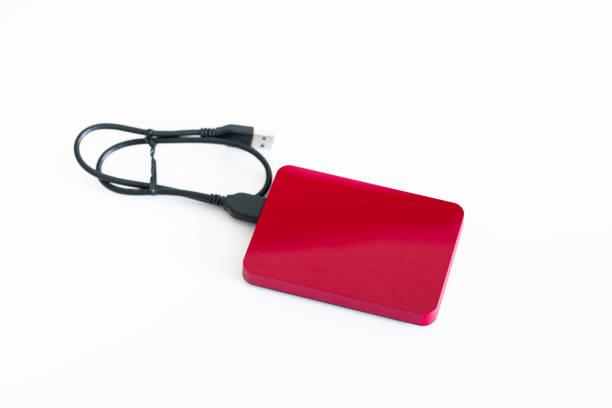HDD: (241, 165, 465, 326)
